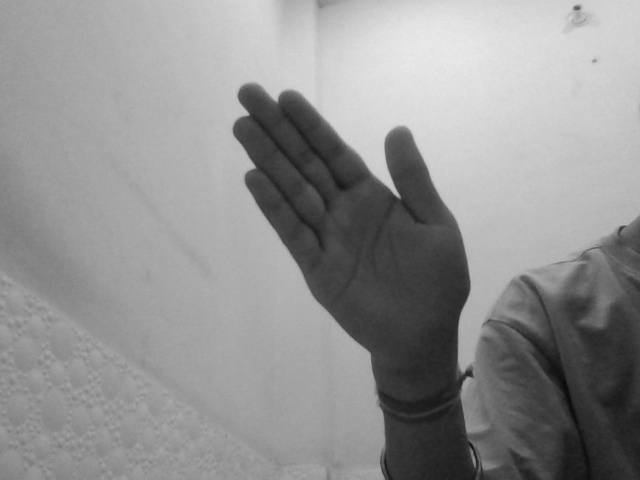Hello: (228, 75, 474, 377)
